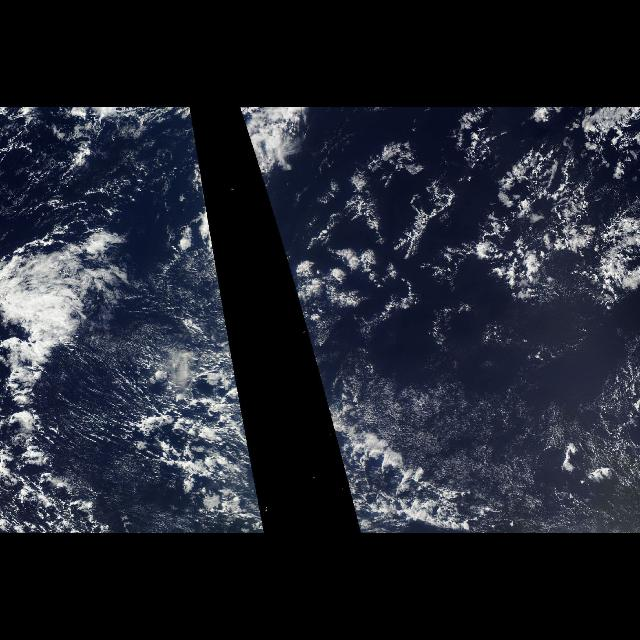Gravel: (0, 436, 134, 532)
Sugar: (347, 337, 638, 485)
